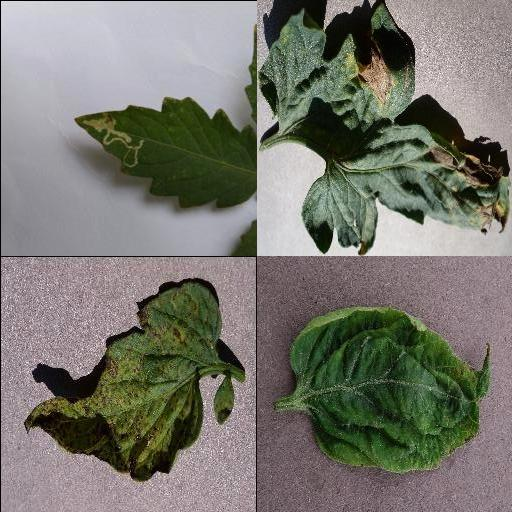Early Blight: (256, 0, 509, 256)
Leaf Miner: (71, 95, 255, 209)
Septoria: (23, 280, 221, 478)
Yellow Leaf Curl Virus: (286, 303, 492, 473)
